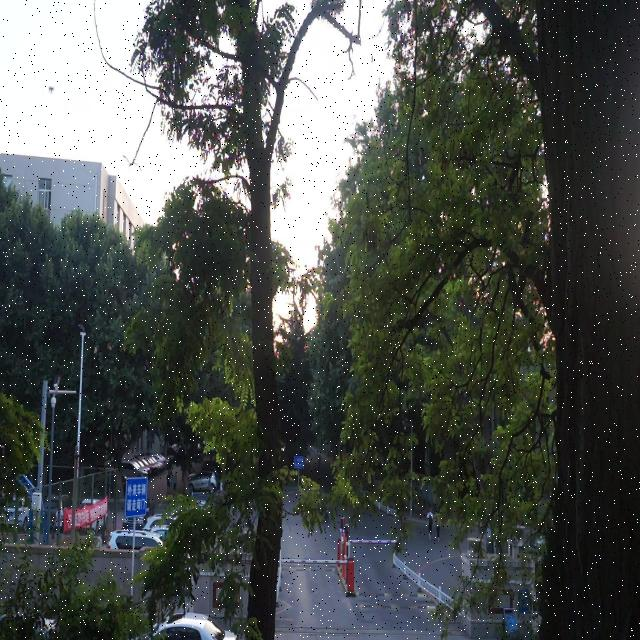UAV: (48, 86, 54, 94)
